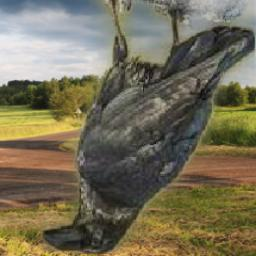Crow: (40, 0, 255, 254)
